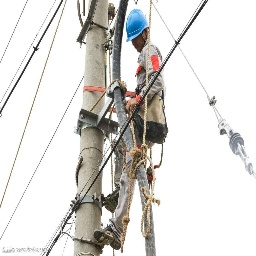helmet: (123, 8, 151, 48)
person: (118, 7, 169, 223)
